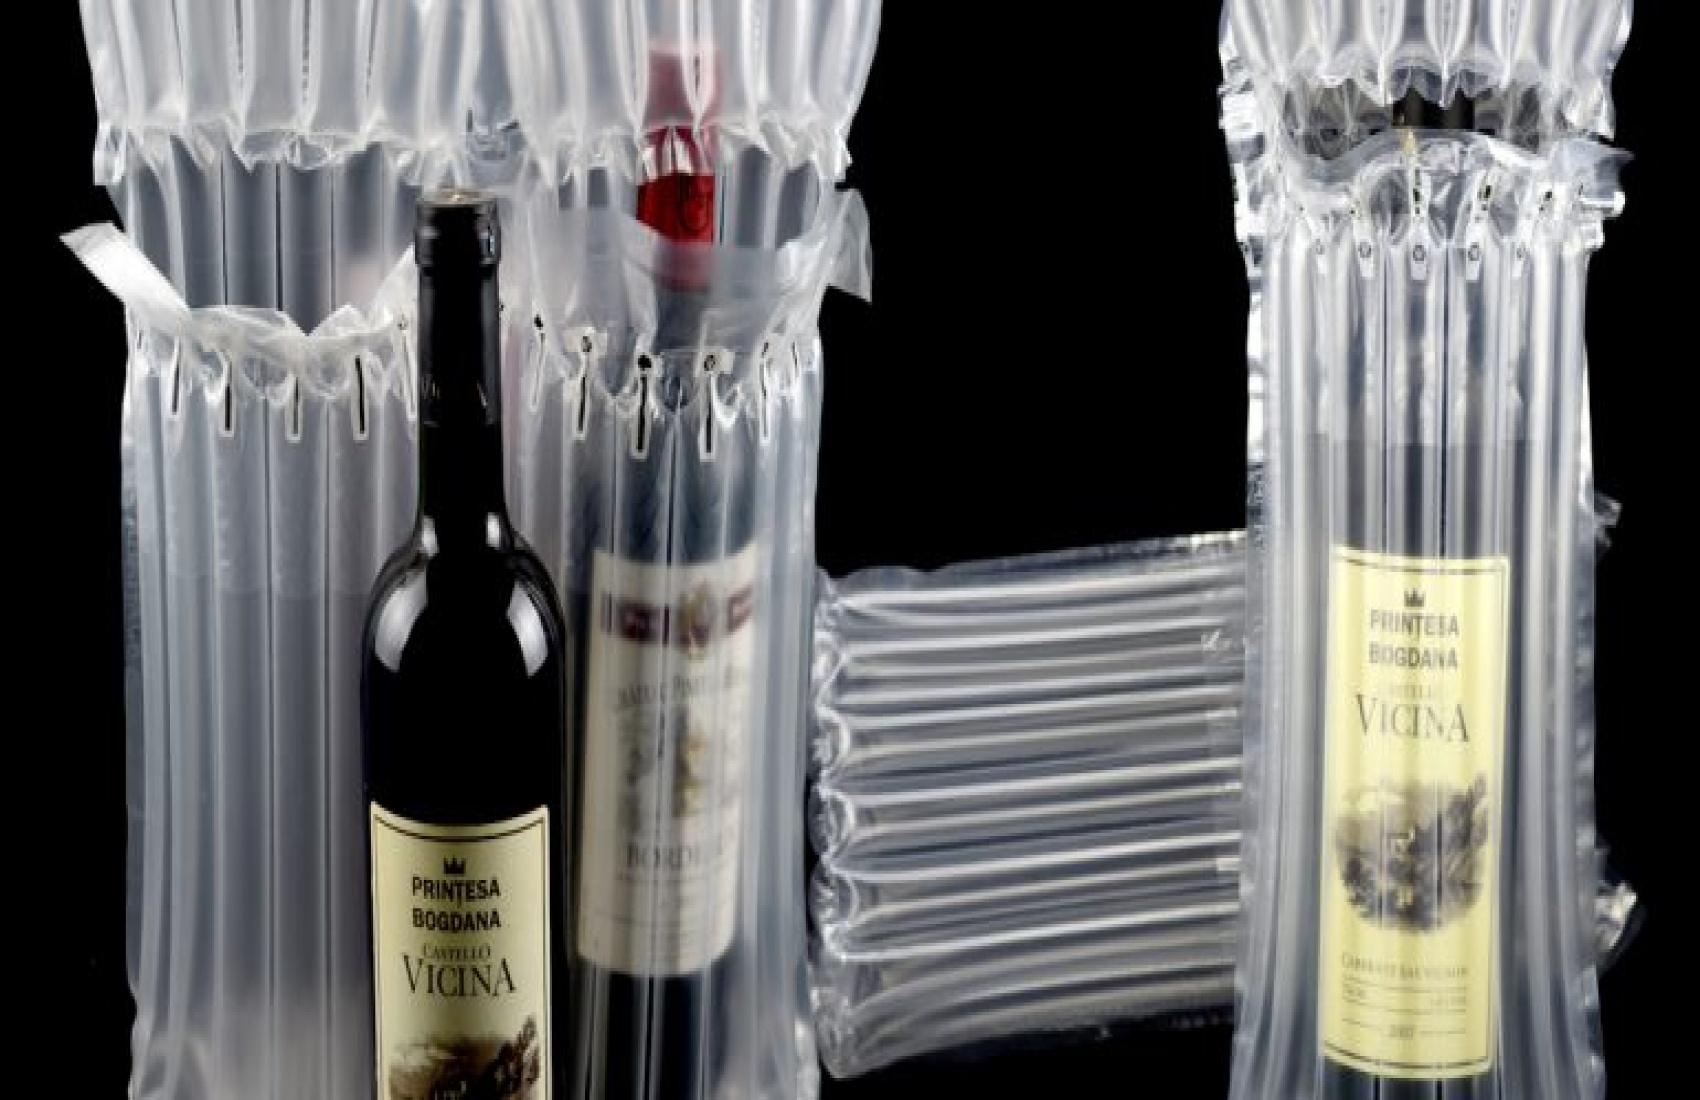wine: (361, 181, 560, 1100)
